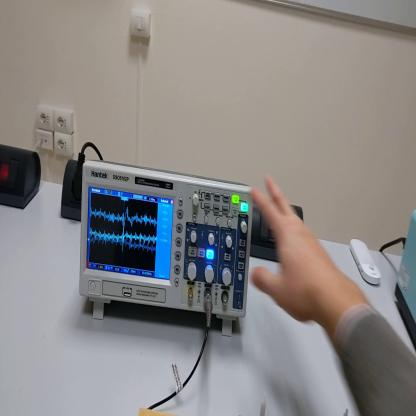hand: (249, 175, 336, 326)
oscilloscope: (80, 162, 256, 339)
socket: (1, 141, 43, 211), (62, 159, 81, 220)
welder station: (393, 213, 415, 350)
working area: (140, 409, 170, 416)
